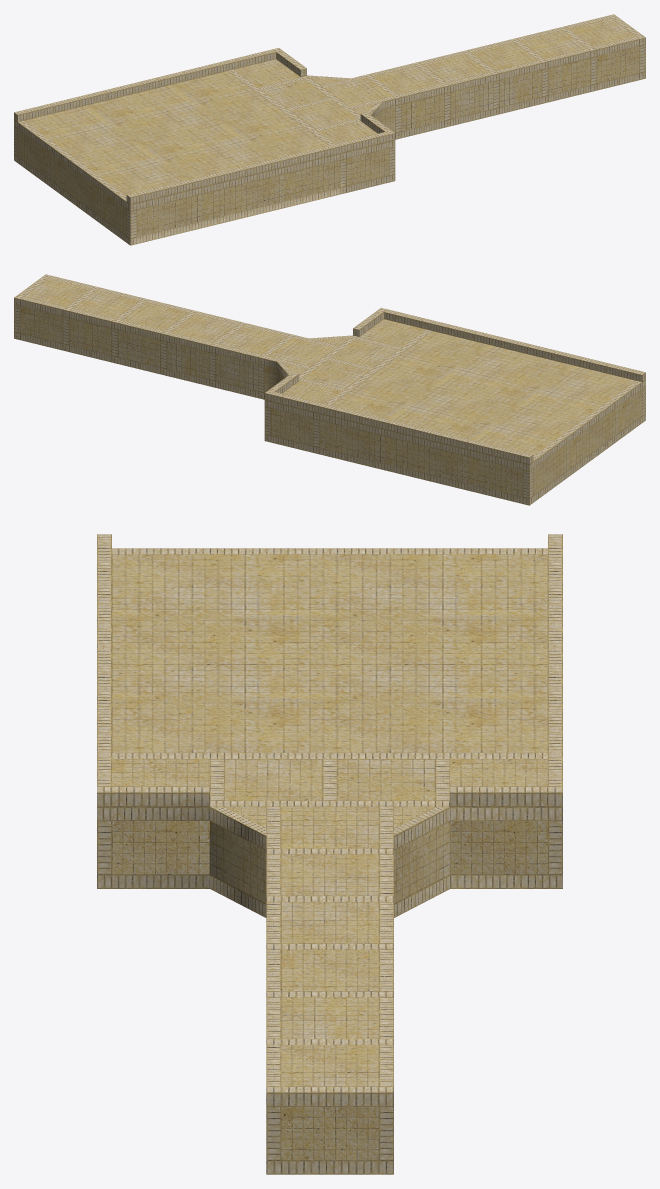
Rendered from bridge_structure_balcony.dae.
3 views of the same model, one above another, from view 1: azimuth 30°, elevation 25°; view 2: azimuth 150°, elevation 25°; view 3: azimuth 270°, elevation 25° (orthographic). The views are drawn at different scales.
Parts seen in each view (by area): view 1: bridge_structure_balcony; view 2: bridge_structure_balcony; view 3: bridge_structure_balcony.
Boxes of the visible parts, x1,y1,x2,y2 form: bridge_structure_balcony: (14,14,645,245); bridge_structure_balcony: (14,274,645,505); bridge_structure_balcony: (97,534,562,1174).
Size of the model in its own units: 64.39 by 23.28 by 5.3.
Materials: 2 (2 with a texture image).
